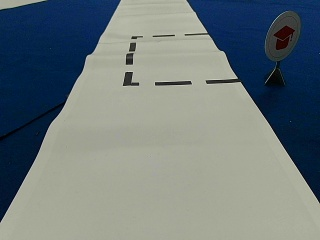school: (265, 12, 299, 59)
